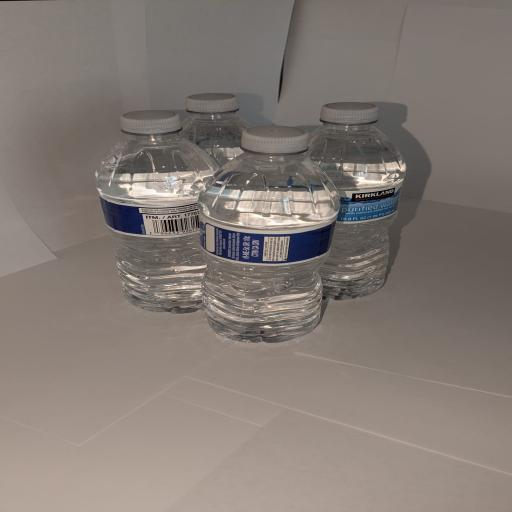waterbottle: (200, 126, 339, 342), (97, 111, 216, 312), (308, 103, 405, 299), (182, 93, 249, 166)
